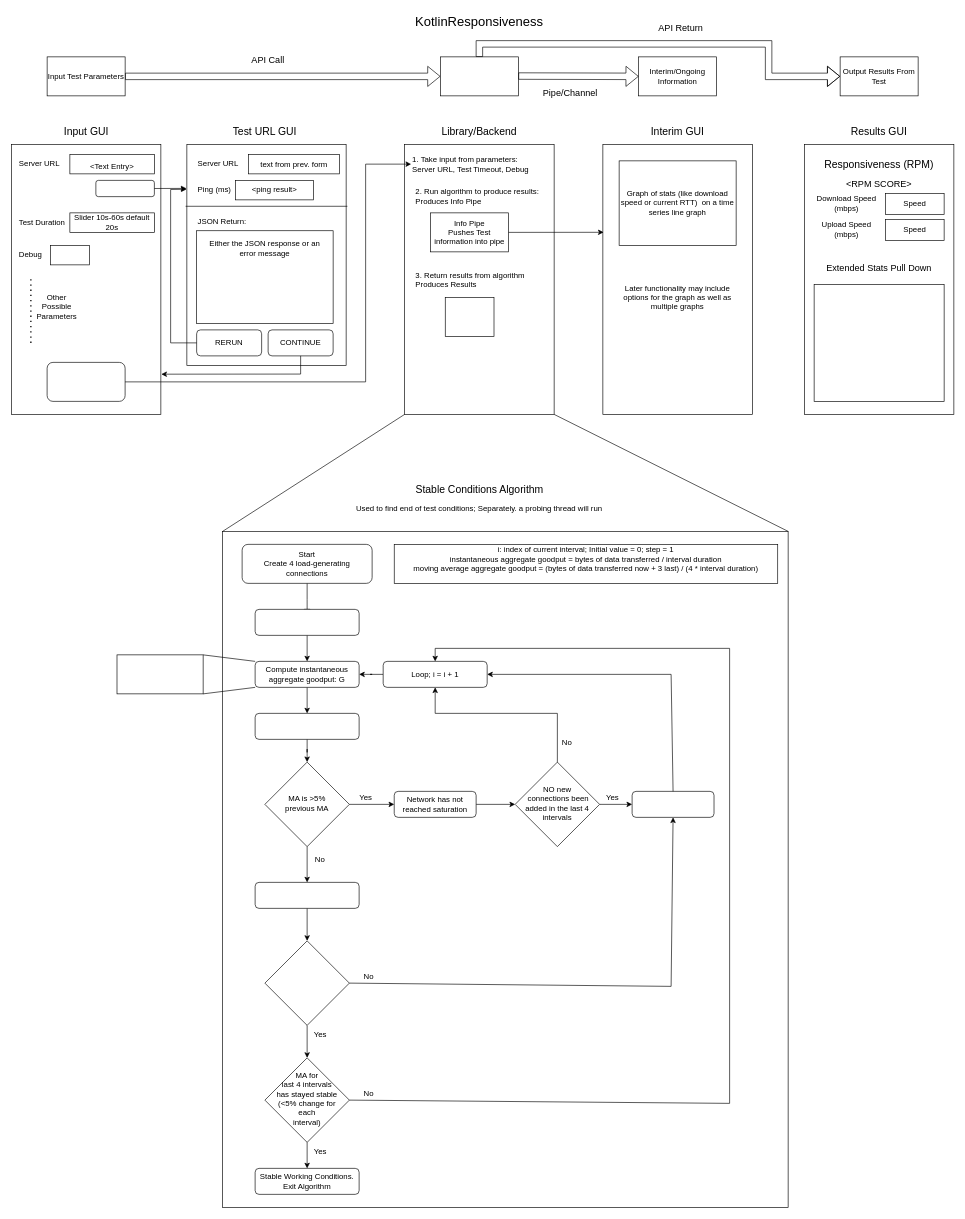
Image size: 965x1219. Some labels were removed from this diagram. The box of each missing label's shape, as (x1, y1, x2, y2) in pixels:
Add 4 more connections: (631, 791, 714, 817)
Checkbox: (50, 245, 89, 265)
Compute moving average aggregate goodput: MA: (254, 713, 359, 739)
Network has reached saturation: (254, 882, 359, 908)
New connections have been added in the last 4 intervals: (264, 940, 349, 1025)
Results: (445, 297, 494, 336)
Run Test Algorithm: (440, 56, 518, 96)
Start Algorithm; i = 0: (254, 609, 359, 635)
START TEST: (46, 362, 125, 401)
Test URL: (95, 180, 154, 197)
This is where information about download speed would be pushed to pipe: (116, 654, 203, 694)
